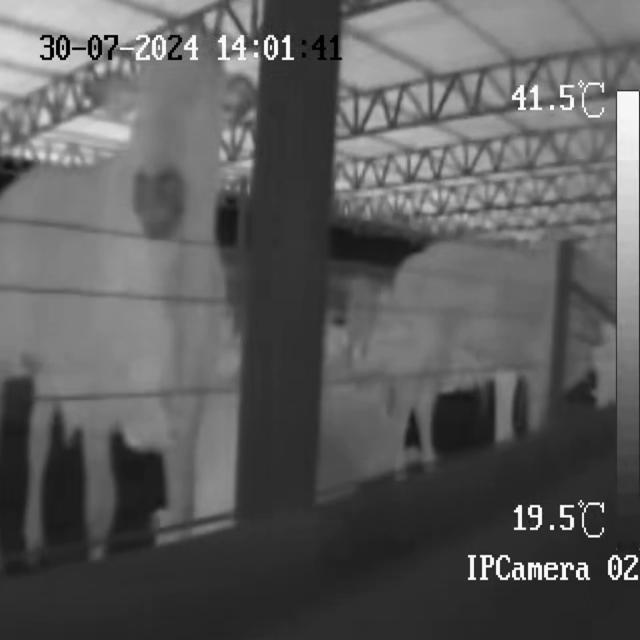head: (121, 60, 224, 242)
